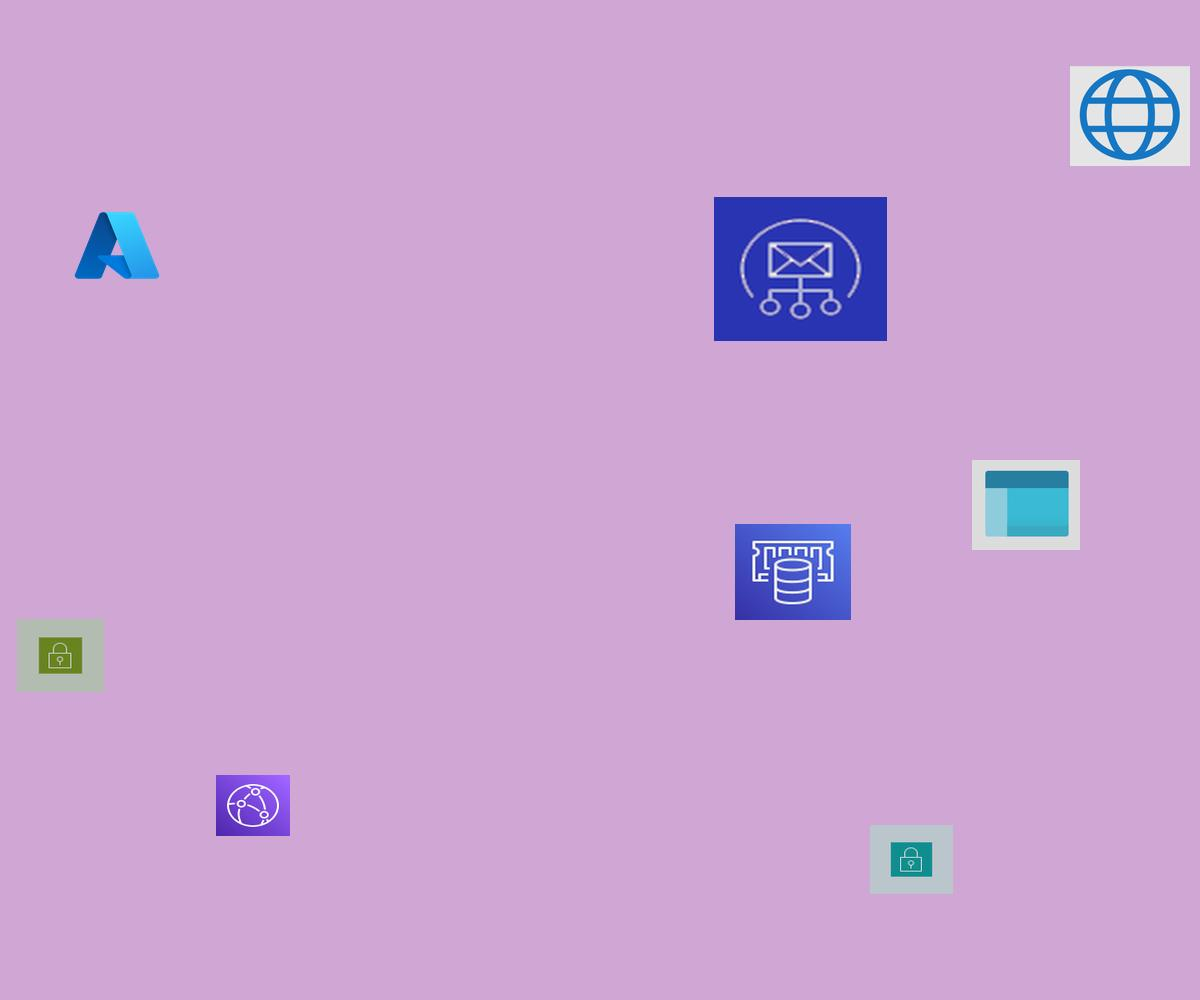AWS-CloudFront: (216, 775, 290, 836)
AWS-ElastiCache: (735, 524, 851, 620)
AWS-Private-subnet: (870, 825, 953, 894)
AWS-Public-subnet: (17, 619, 104, 692)
AWS-Simple-Email-Service: (714, 197, 887, 341)
Azure_http: (1070, 66, 1190, 166)
Azure_management-portal: (972, 460, 1080, 550)
Azure_services: (71, 207, 163, 284)
